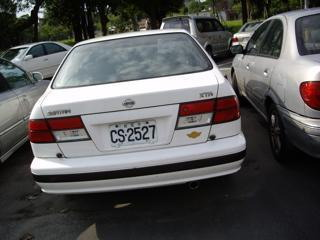plate: (105, 122, 158, 146)
